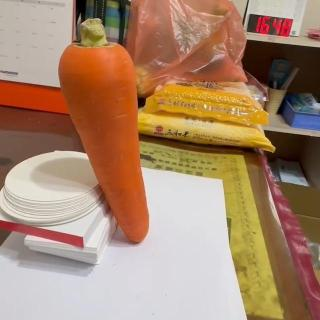carrot: (58, 17, 150, 245)
